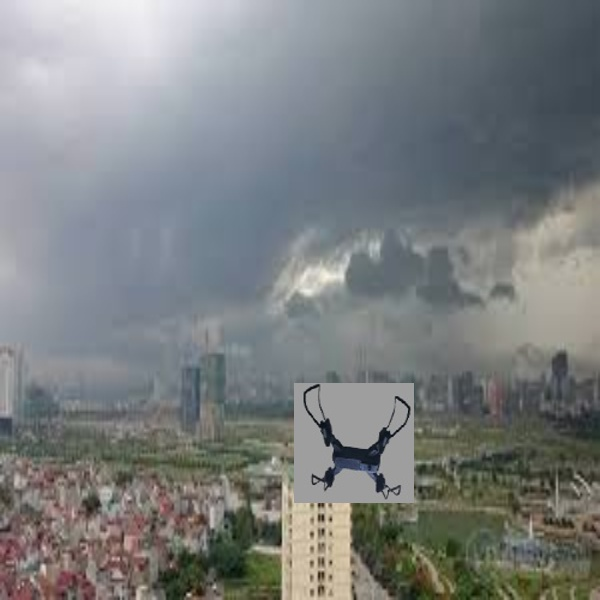drone: (301, 382, 415, 503)
